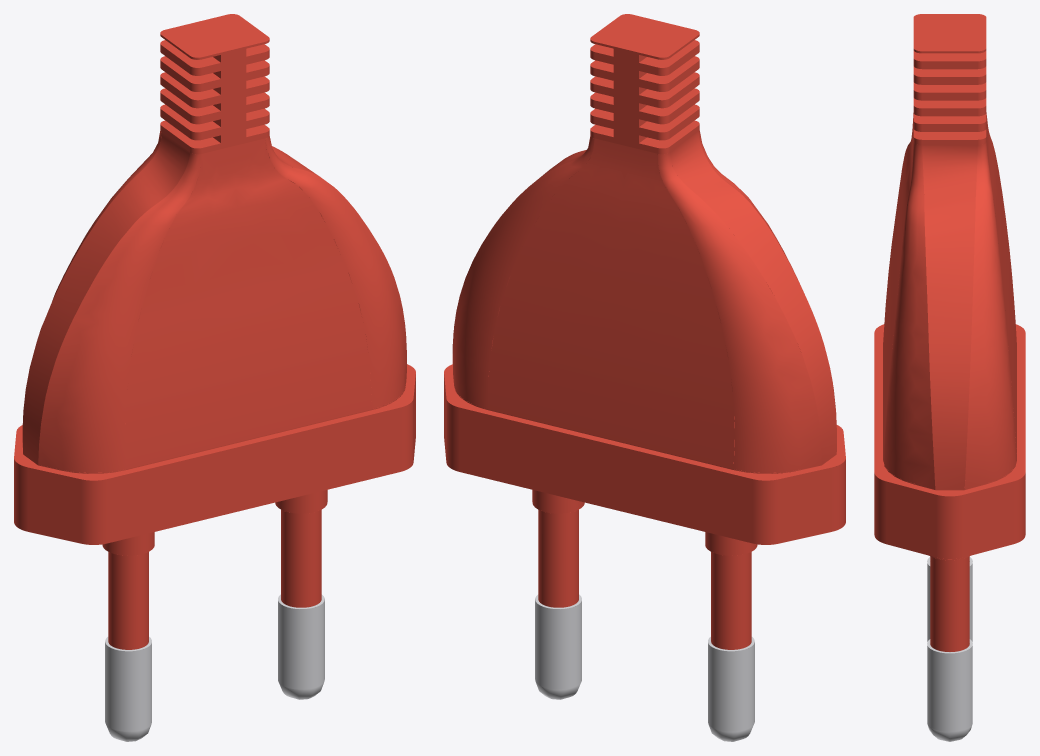
Rendered from power_plug.glb.
The picture shows the model from 3 angles, left to right: view 1: azimuth 30°, elevation 25°; view 2: azimuth 150°, elevation 25°; view 3: azimuth 270°, elevation 25°; orthographic projection. The views are drawn at different scales.
Visible parts, largest first — view 1: ENCHUFE_PLANO_V2; view 2: ENCHUFE_PLANO_V2; view 3: ENCHUFE_PLANO_V2.
Part boxes in pixels (x1,y1,x2,y2): ENCHUFE_PLANO_V2: [14, 14, 415, 741]; ENCHUFE_PLANO_V2: [444, 14, 845, 741]; ENCHUFE_PLANO_V2: [874, 14, 1025, 741].
Size of the model in its own units: 0.0513 by 0.0846 by 0.0174.
